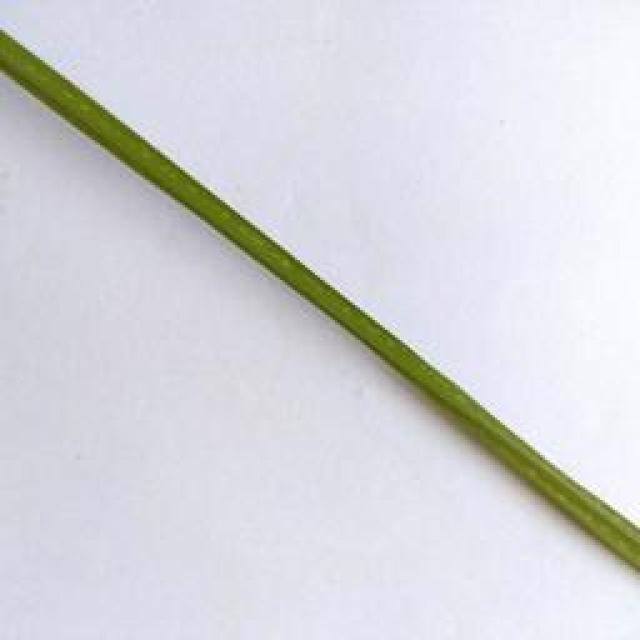Healthy-Plant: (0, 24, 640, 562)
